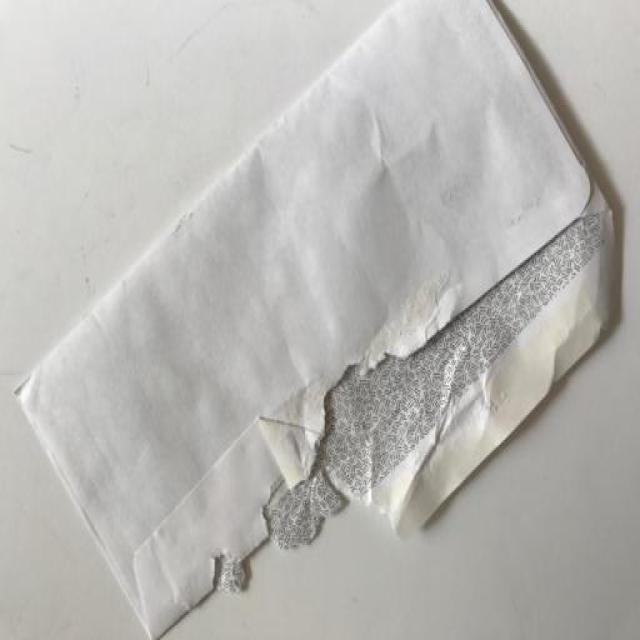paper: (11, 0, 613, 638)
